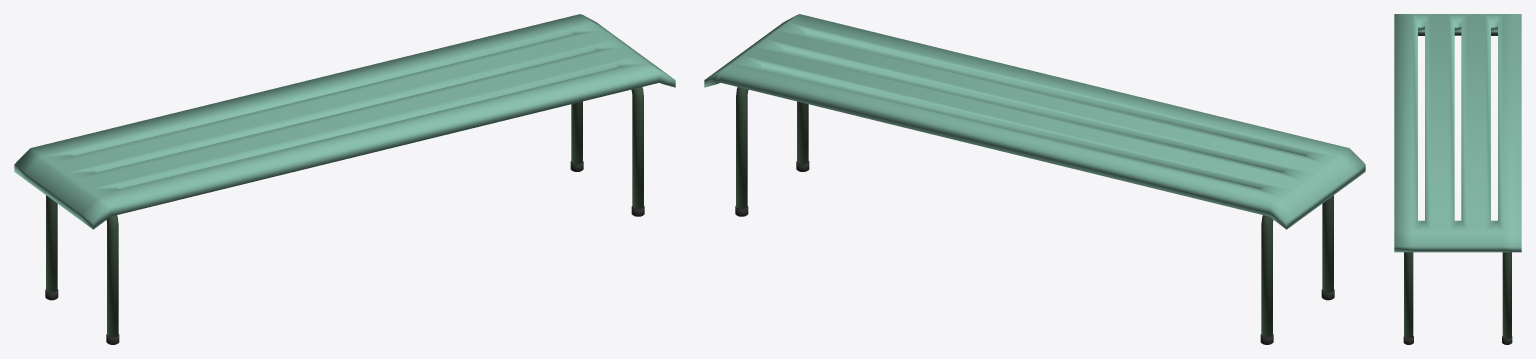
The model's file is Bench.fbx.
3 views of the same model, side by side, from view 1: azimuth 30°, elevation 25°; view 2: azimuth 150°, elevation 25°; view 3: azimuth 270°, elevation 25° (orthographic). The views are drawn at different scales.
Parts seen in each view (by area): view 1: Bench; view 2: Bench; view 3: Bench.
Boxes of the visible parts, x1=… form: Bench: x1=14, y1=14, x2=675, y2=344; Bench: x1=704, y1=14, x2=1365, y2=344; Bench: x1=1394, y1=14, x2=1521, y2=344.
Bounding box in the file's own units: 515 × 124 × 121.
